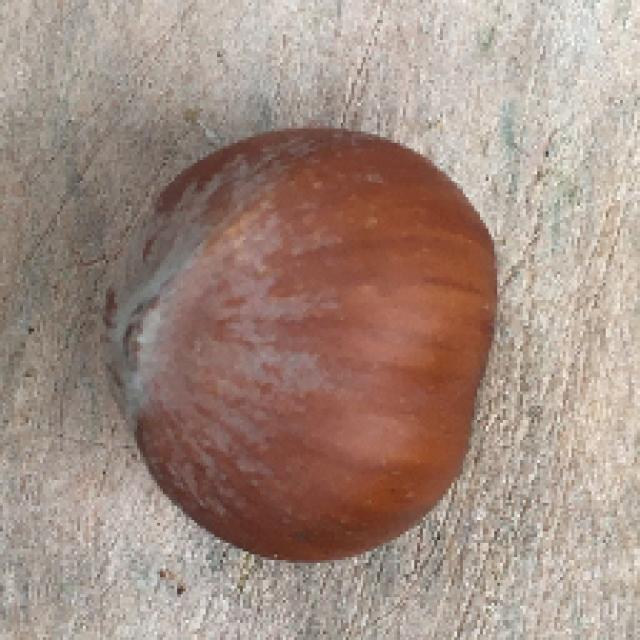qualityHazelnut: (99, 108, 516, 571)
